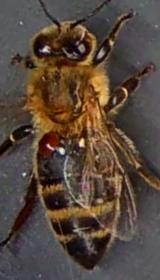varroa_mite: (34, 124, 63, 162)
